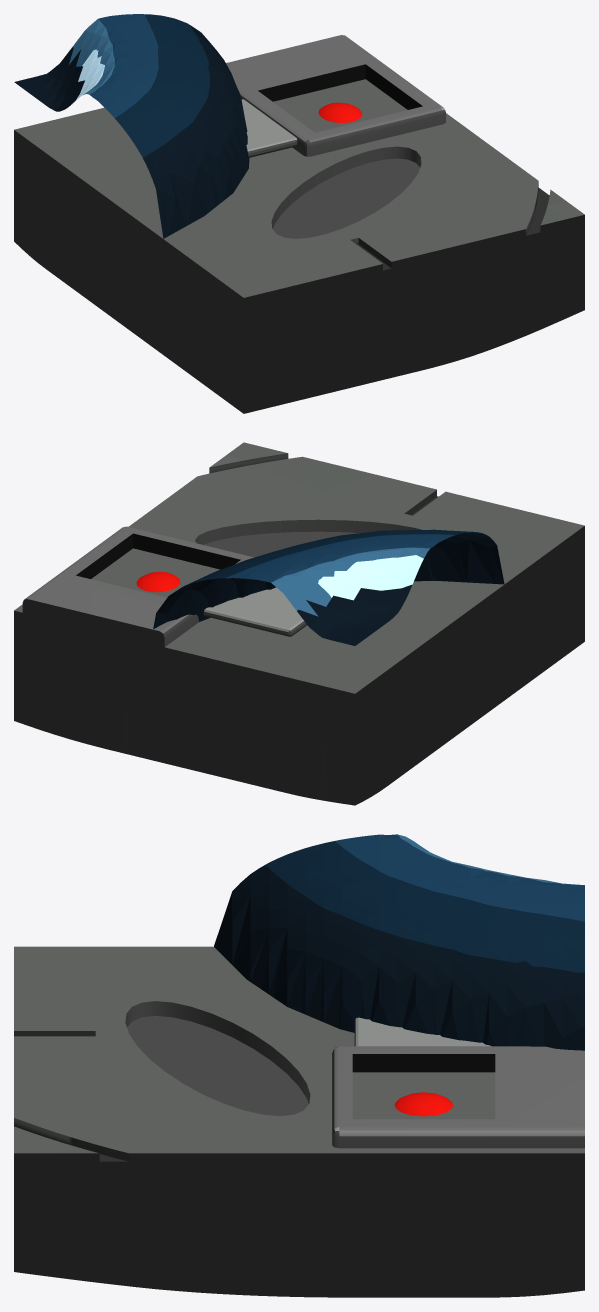
Rendered from camanis_boss_237.glb.
3 renders of one model, top to bottom at view 1: azimuth 30°, elevation 25°; view 2: azimuth 150°, elevation 25°; view 3: azimuth 270°, elevation 25°, orthographic. The views are drawn at different scales.
Parts seen in each view (by area): view 1: camanis_boss_237; view 2: camanis_boss_237; view 3: camanis_boss_237.
Boxes of the visible parts, x1,y1,x2,y2 form: camanis_boss_237: [14, 14, 584, 413]; camanis_boss_237: [14, 442, 584, 805]; camanis_boss_237: [14, 834, 584, 1297].
Size of the model in its own units: 24 by 13.91 by 28.
